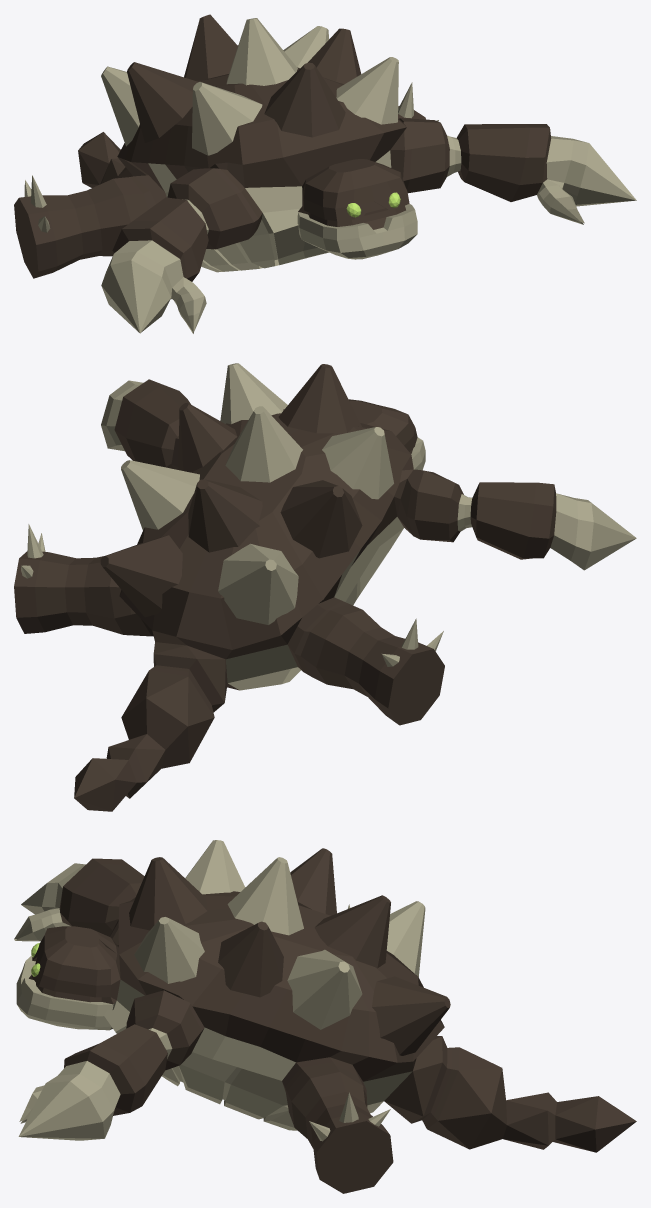
Rendered from 2st Floor Monster 2.fbx.
The picture shows the model from 3 angles, top to bottom: view 1: azimuth 30°, elevation 25°; view 2: azimuth 150°, elevation 25°; view 3: azimuth 270°, elevation 25°; orthographic projection. The views are drawn at different scales.
Parts seen in each view (by area): view 1: Cone.005; view 2: Cone.005; view 3: Cone.005.
Part boxes in pixels (x1,y1,x2,y2): Cone.005: (14, 14, 636, 333); Cone.005: (14, 363, 636, 811); Cone.005: (14, 840, 636, 1193).
Bounding box in the file's own units: 551 × 306 × 592.
